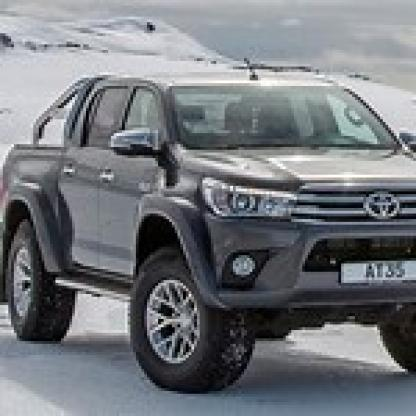bull_dozer/loader/grader: (11, 11, 413, 366)
